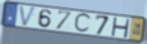6: (38, 8, 54, 29)
7: (55, 10, 73, 31), (94, 14, 110, 36)
C: (73, 12, 93, 34)
H: (110, 16, 131, 39)
V: (18, 5, 37, 28)
